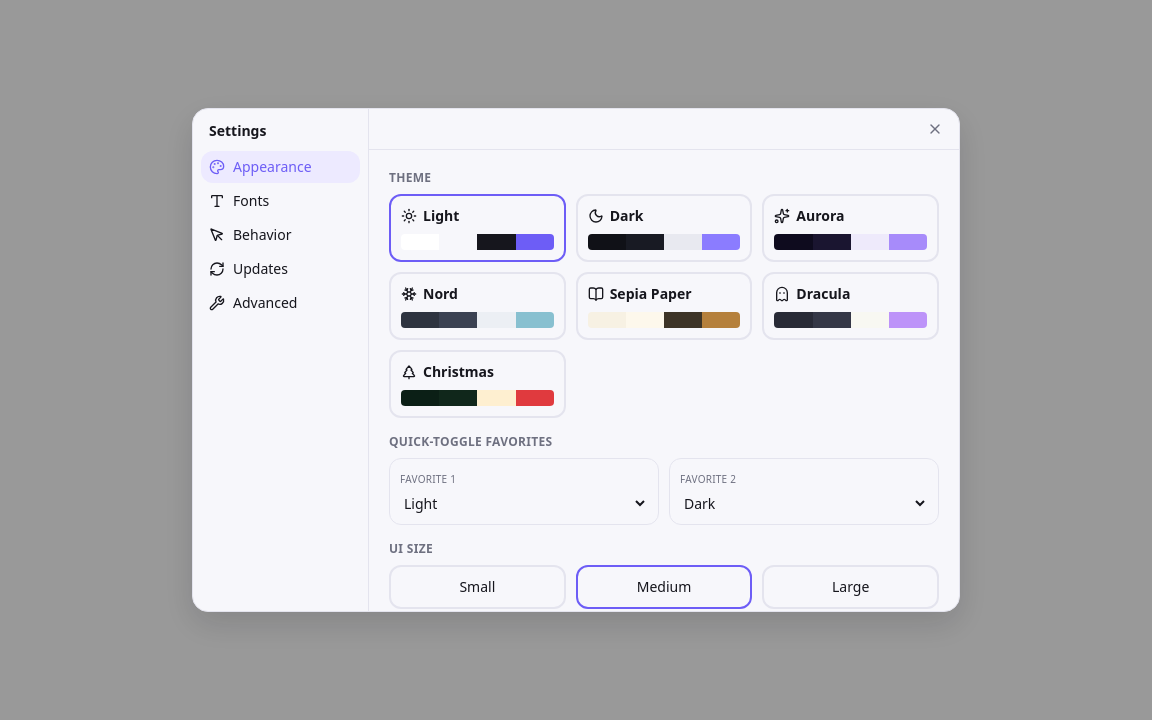
Test: SettingsModal › renders the Updates section with the startup-check toggle
This screenshot has width=1152, height=720.
Click the button "Updates". click: point(280, 269)
box: [201,253,360,285]
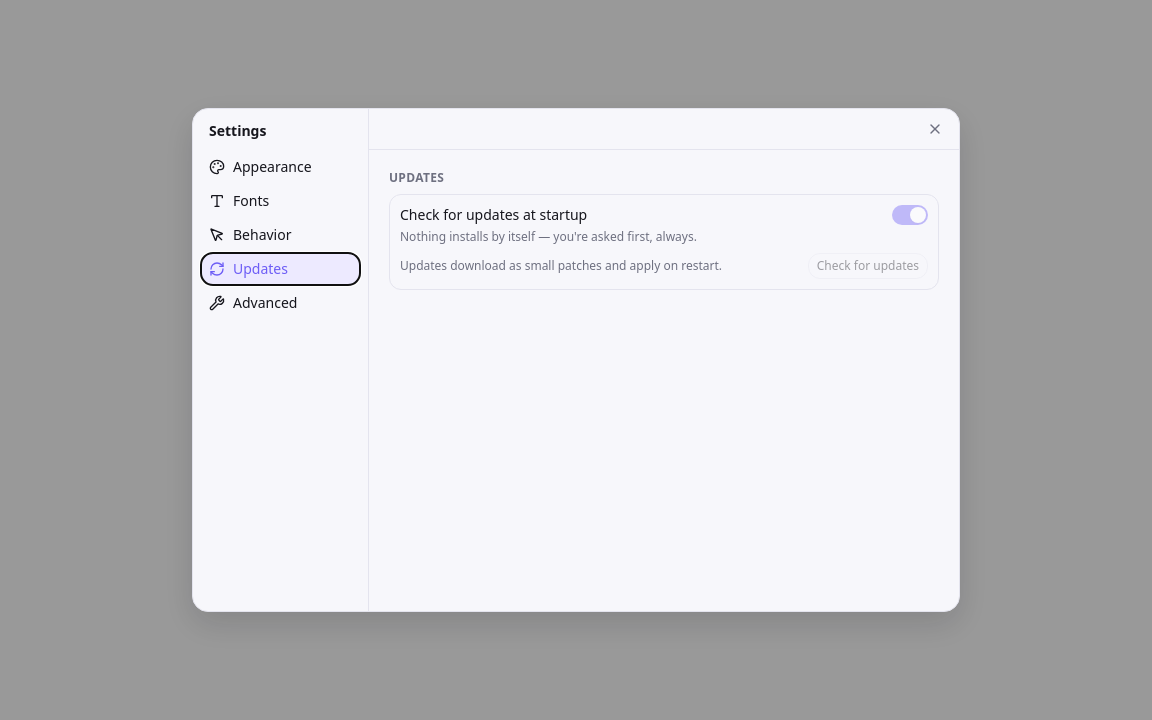
Expected: the switch named "check for updates at startup" is disabled, [892,205,928,225]
Expected: the button "Check for updates" is disabled, [808,253,928,279]
